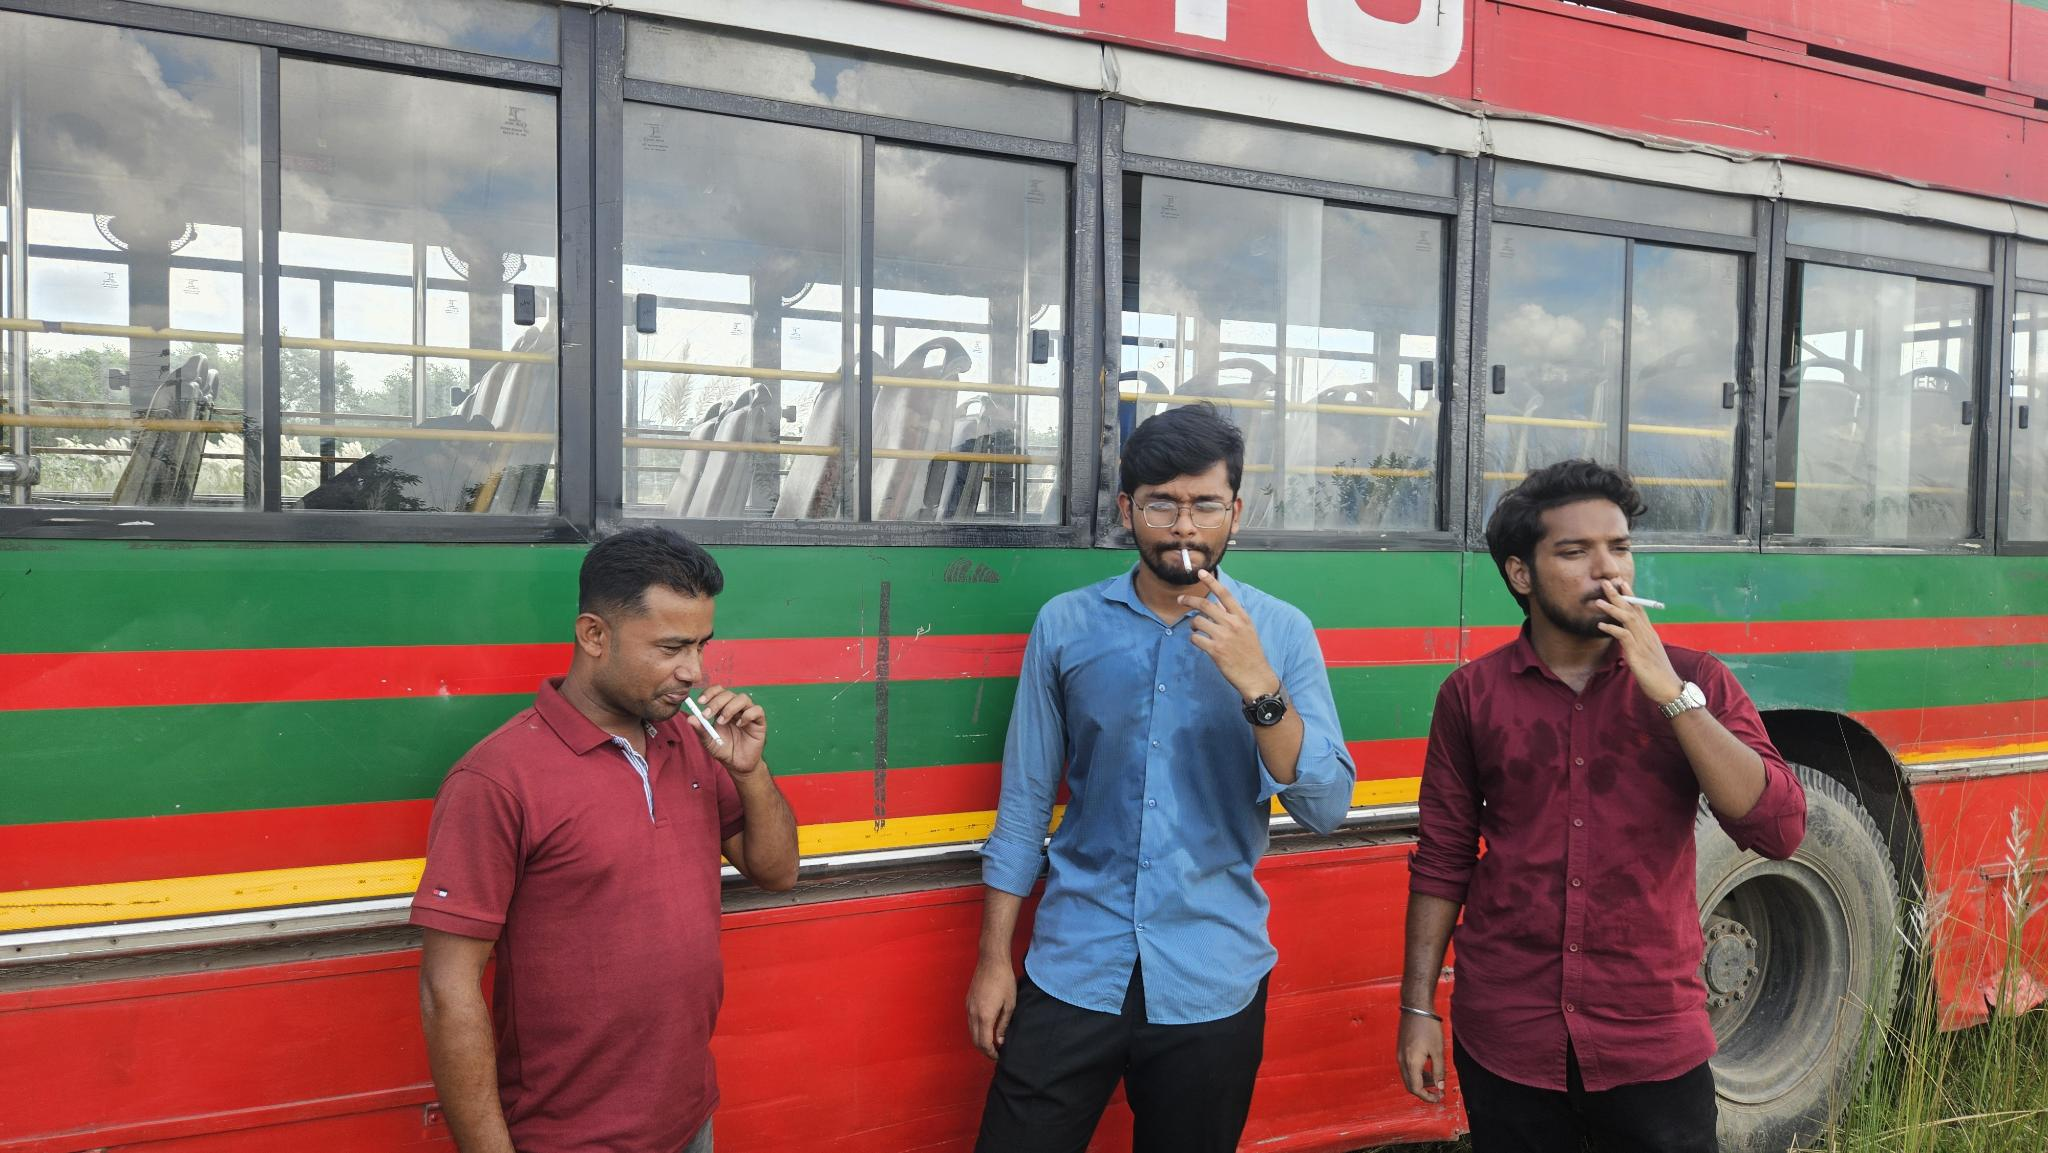cigarette: (682, 695, 726, 749), (1616, 592, 1668, 613), (1177, 546, 1196, 576)
smoker: (965, 404, 1355, 1153), (1394, 461, 1807, 1153), (405, 527, 802, 1153)
